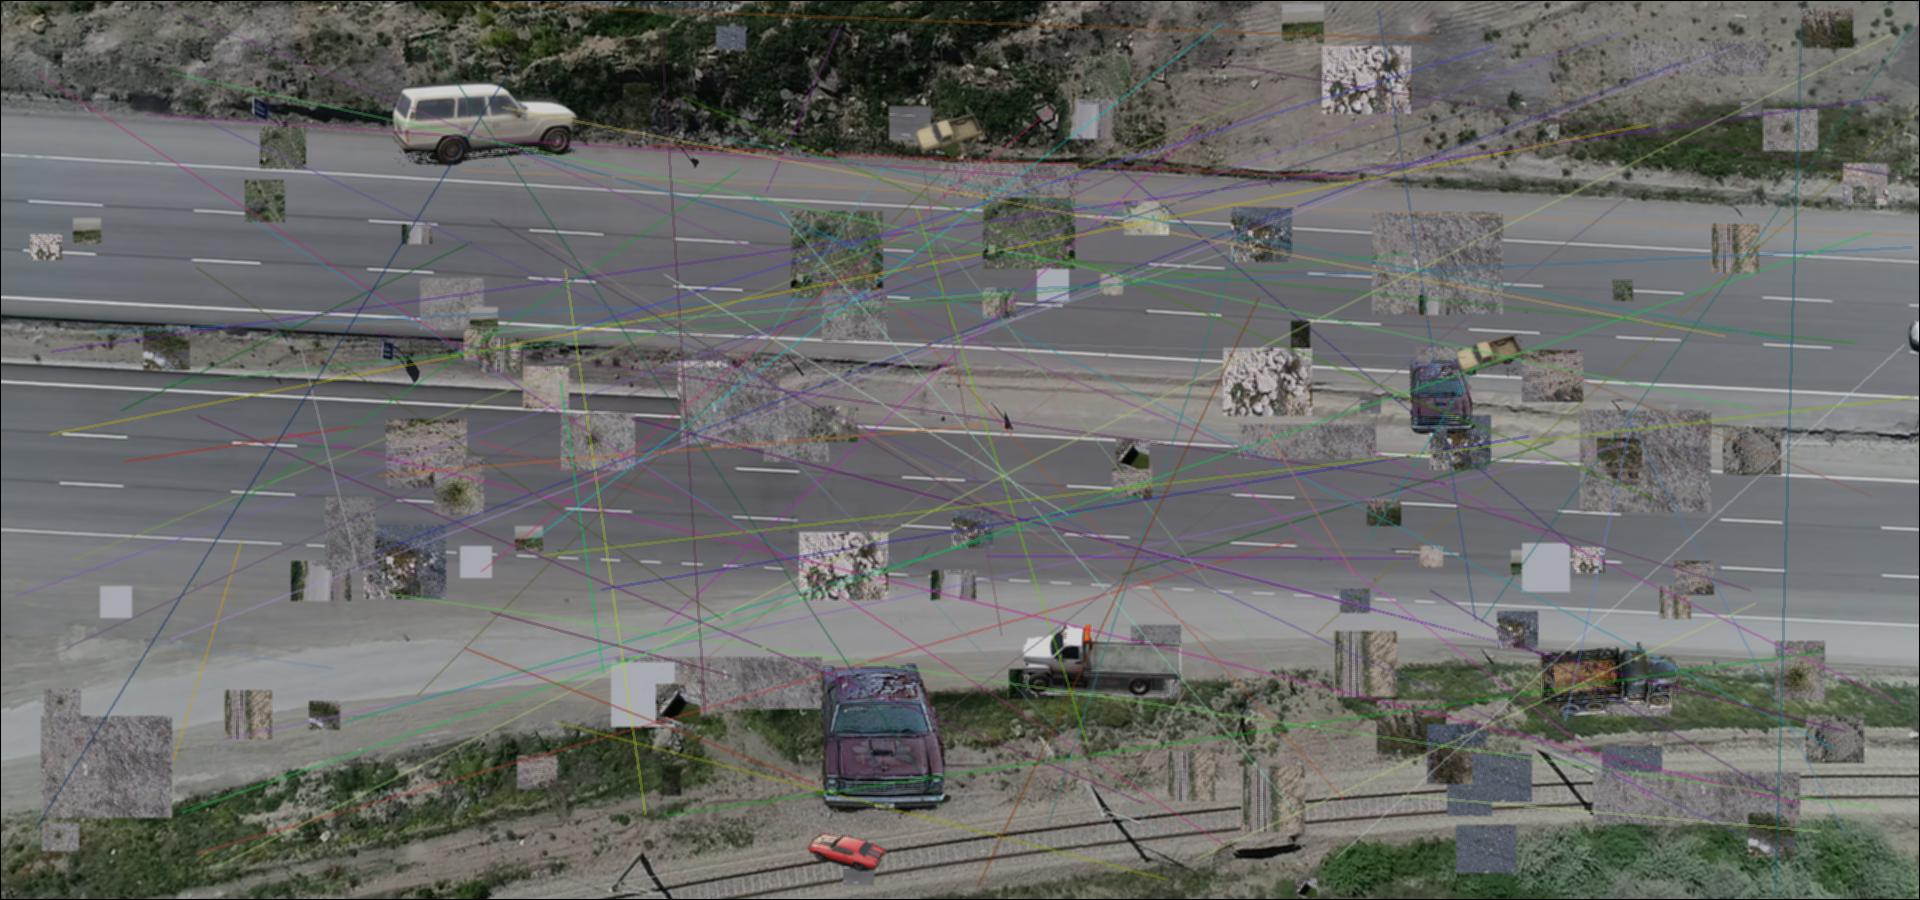arac: (809, 658, 951, 817), (393, 80, 579, 167), (1022, 624, 1187, 699), (1538, 642, 1681, 715), (1404, 358, 1476, 436), (807, 831, 888, 871), (915, 111, 983, 156), (1455, 333, 1523, 377)
